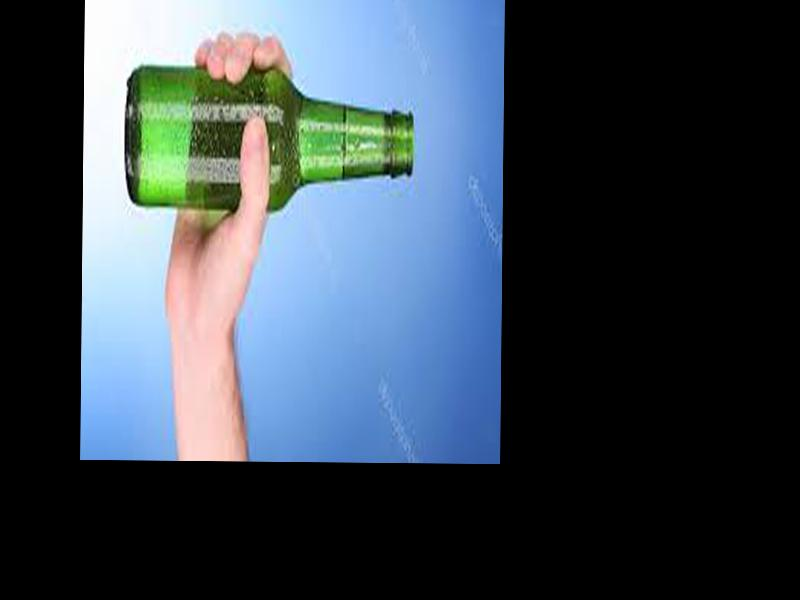Beer: (123, 68, 415, 209)
